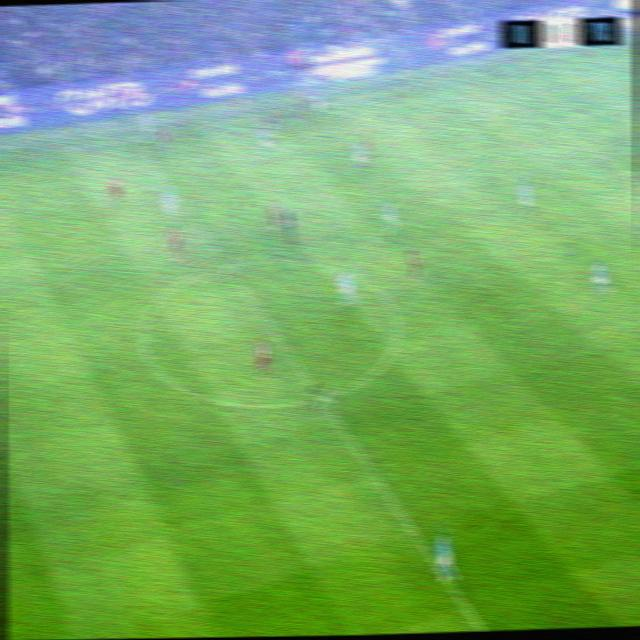bigarea_top_inner: (542, 109, 566, 136)
halfcircle_bottom: (308, 382, 336, 411)
halfcircle_top: (215, 251, 240, 278)
midline_top_intersection: (125, 127, 144, 145)
top_arc_area_intersection: (630, 169, 640, 189)
